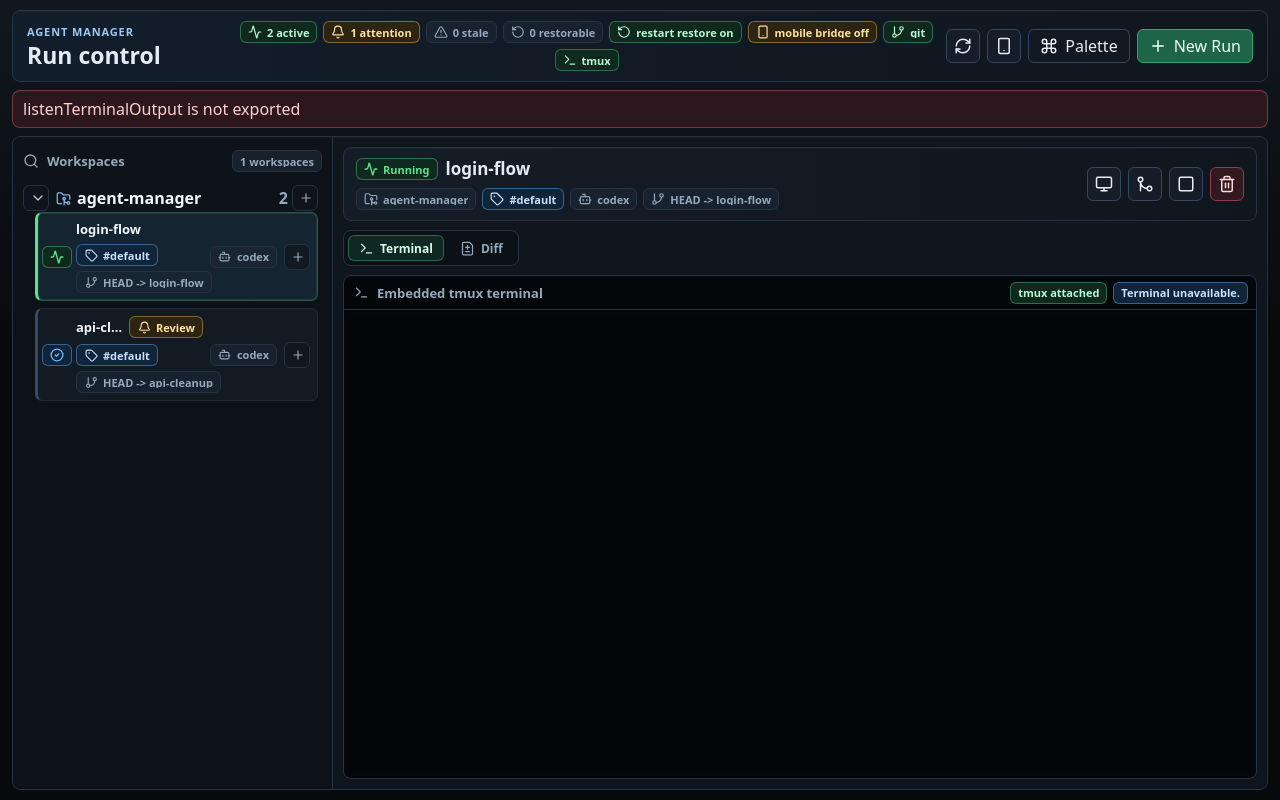
it: App › keeps the run chosen by the user instead of returning to the first run
Expected: the heading "login-flow" is shown, [446,158,530,180]
Click the list item "api-cleanup Review #default HEAD -> api-cleanup codex": [176, 354] box [35,308,318,401]
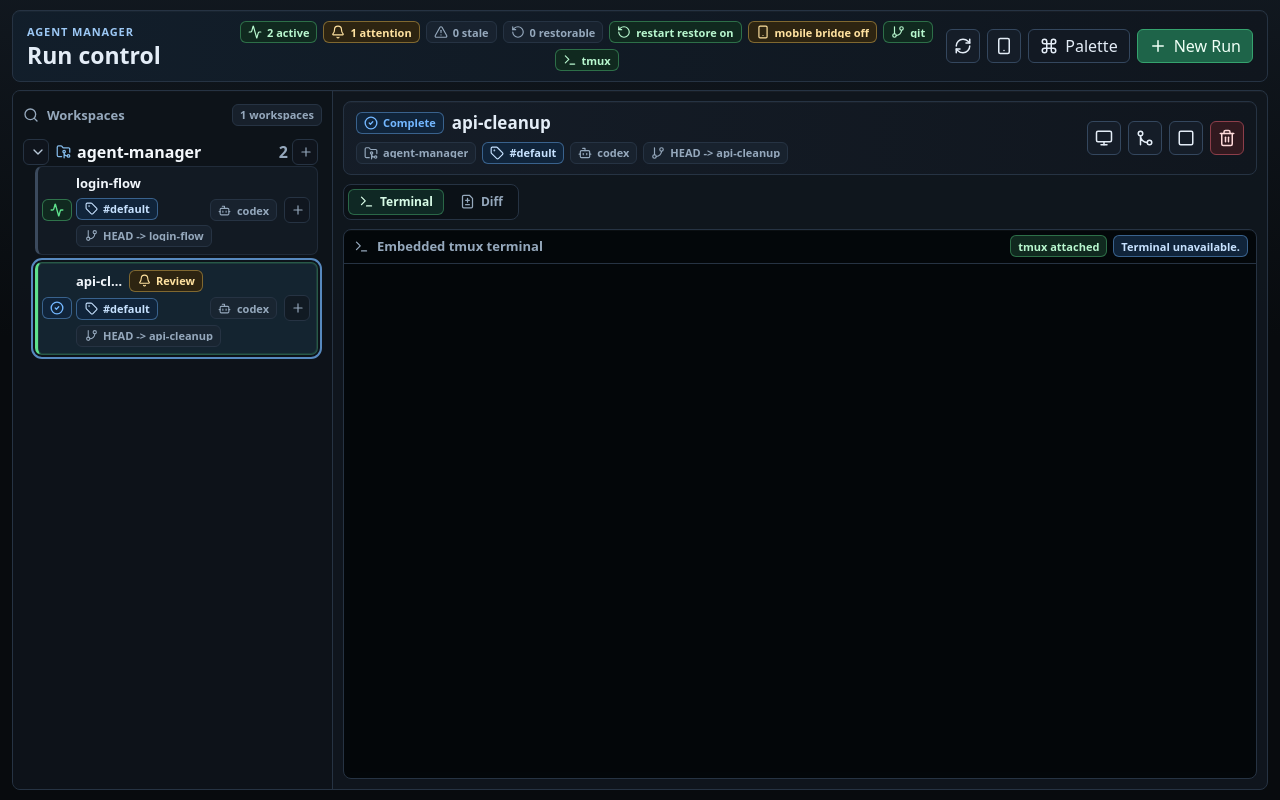
Now the heading "api-cleanup" is shown, box [452,112,551,134]
